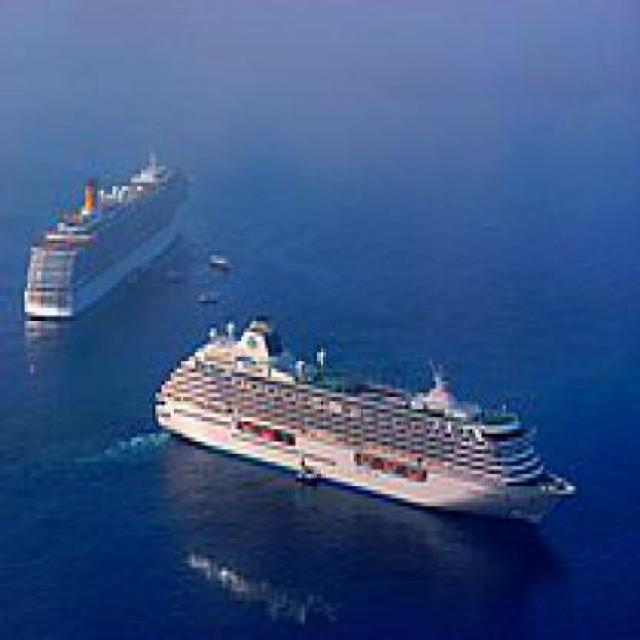cruise: (153, 304, 593, 544), (17, 143, 200, 329)
